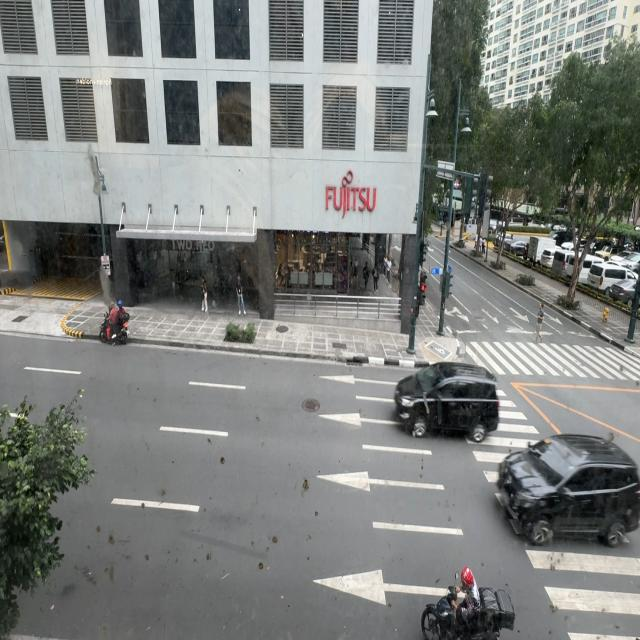crossing: (536, 298, 546, 342)
pedestrain: (237, 275, 246, 314), (201, 276, 208, 312)
